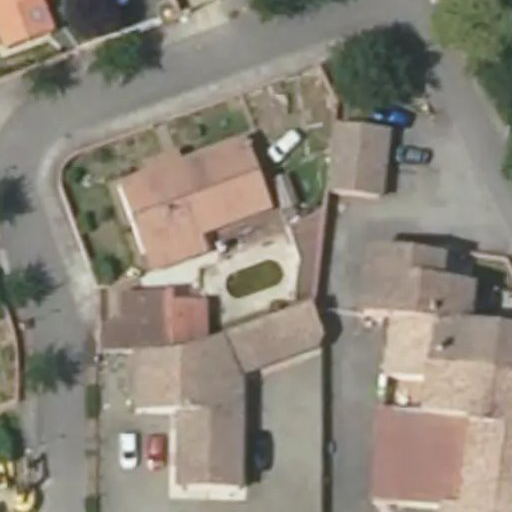pool: (219, 238, 292, 245)
